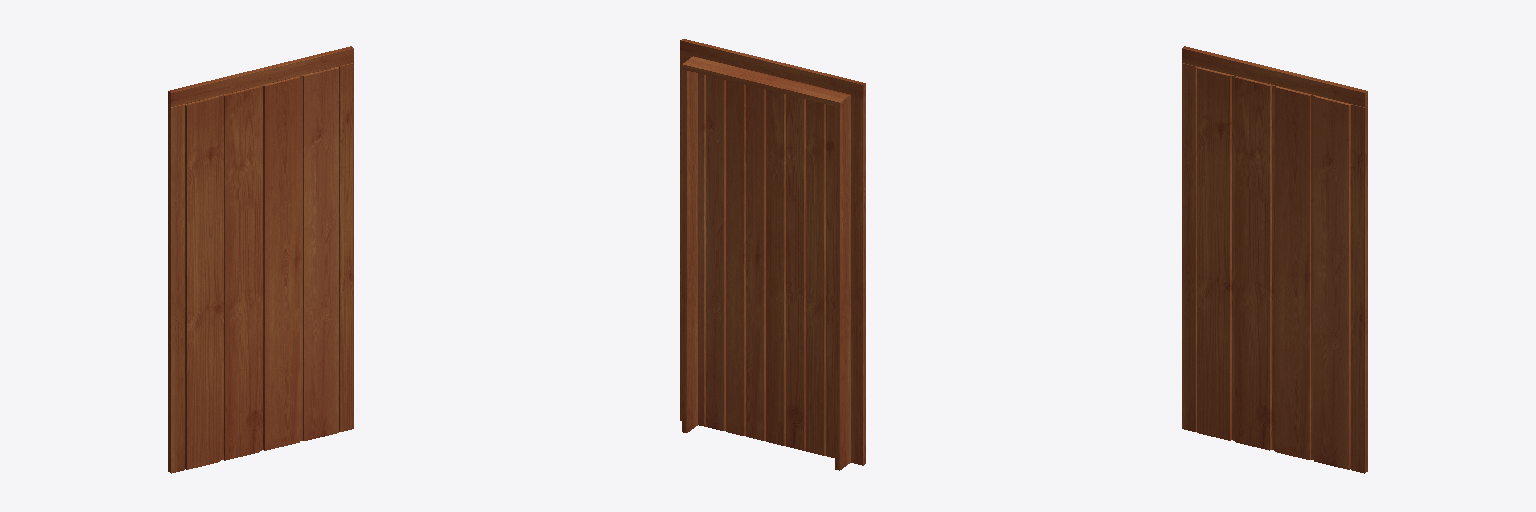
3 renders of one model, left to right at view 1: azimuth 30°, elevation 25°; view 2: azimuth 150°, elevation 25°; view 3: azimuth 330°, elevation 25°, orthographic.
Visible parts, largest first — view 1: plank003, plank002, plank001, plank004, trim_left, trim_right, trim_top; view 2: plank002, plank003, plank001, plank004, box_left, box_right, trim_left, trim_top, box_top, trim_right; view 3: plank002, plank003, plank001, plank004, trim_right, trim_left, trim_top.
Boxes of the visible parts, box(x1,y1,x2,y2) form: plank003: box(263, 74, 308, 450); plank002: box(224, 84, 267, 460); plank001: box(185, 94, 226, 469); plank004: box(303, 67, 338, 440); trim_left: box(168, 104, 184, 473); trim_right: box(339, 63, 353, 431); trim_top: box(168, 46, 353, 106); plank002: box(766, 90, 805, 450); plank003: box(726, 80, 765, 440); plank001: box(806, 100, 834, 457); plank004: box(698, 73, 725, 430); box_left: box(835, 100, 850, 470); box_right: box(682, 69, 697, 432); trim_left: box(851, 97, 865, 465); trim_top: box(680, 39, 865, 99); box_top: box(682, 56, 850, 107); trim_right: box(680, 55, 689, 420); plank002: box(1235, 77, 1278, 450); plank003: box(1275, 87, 1319, 459); plank001: box(1197, 67, 1241, 440); plank004: box(1314, 96, 1350, 469); trim_right: box(1351, 104, 1367, 473); trim_left: box(1182, 63, 1196, 431); trim_top: box(1182, 46, 1367, 106).
Size of the model in its own units: 29 by 57.69 by 3.84.
Materials: 6 (6 with a texture image).